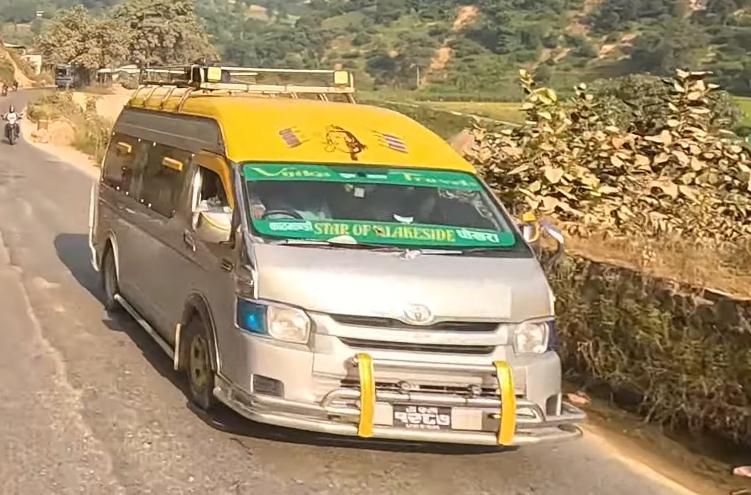micro_bus: (87, 69, 596, 458)
